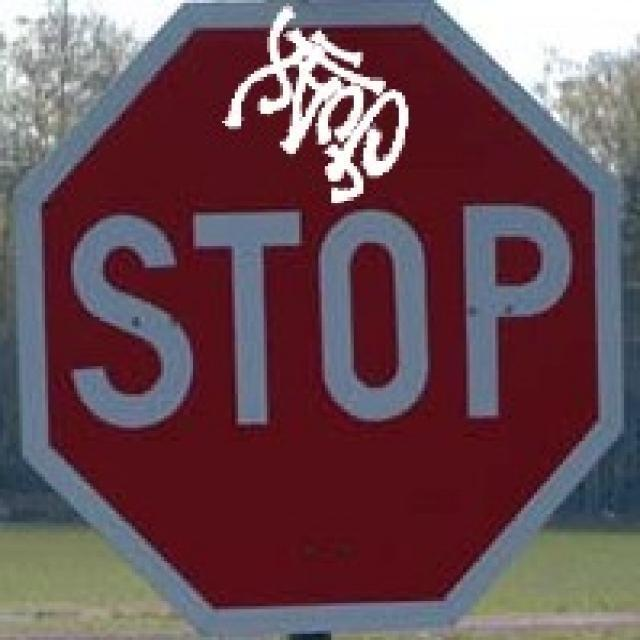Stop-Sign: (66, 34, 570, 586)
